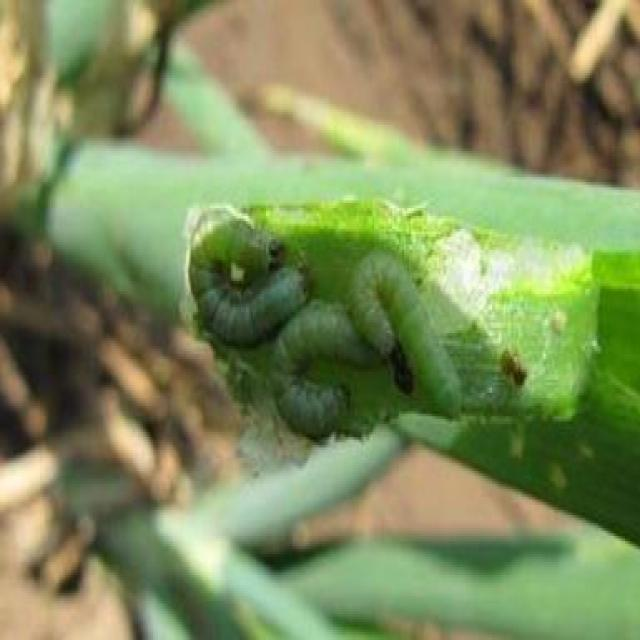BeetArmyWorm-Larva-: (348, 244, 468, 427), (265, 293, 389, 443), (184, 209, 312, 349)
